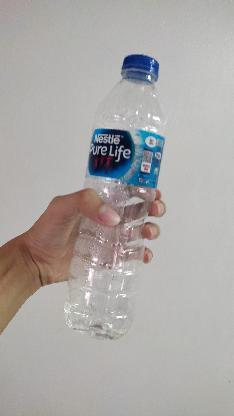Plastic Bottle: (56, 50, 174, 342)
